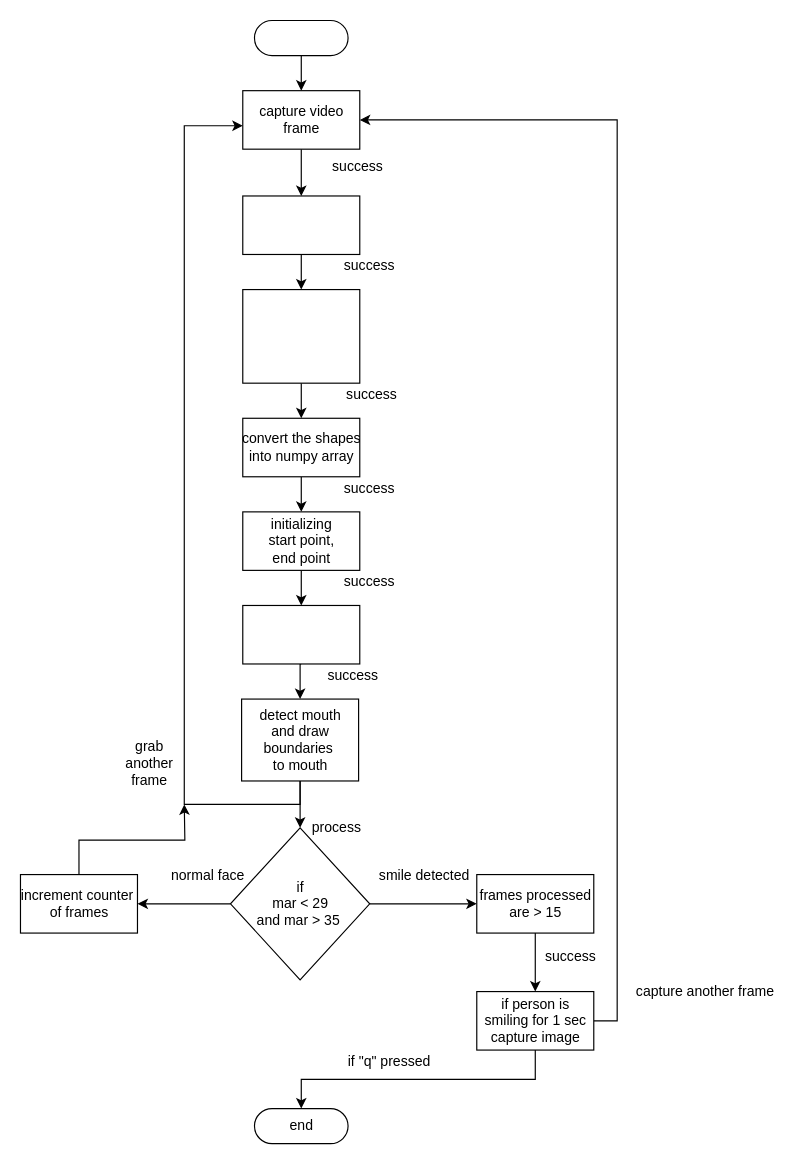
The diagram is 801 pixels wide and 1164 high, and some of its shapes have lost their labels. The centre of each missing label's shape, as x and y in pixels:
calculate MAR: (x=301, y=634)
get the face and draw bounding to face parts: (x=301, y=335)
resize and convert to gray: (x=301, y=224)
start: (x=300, y=37)
